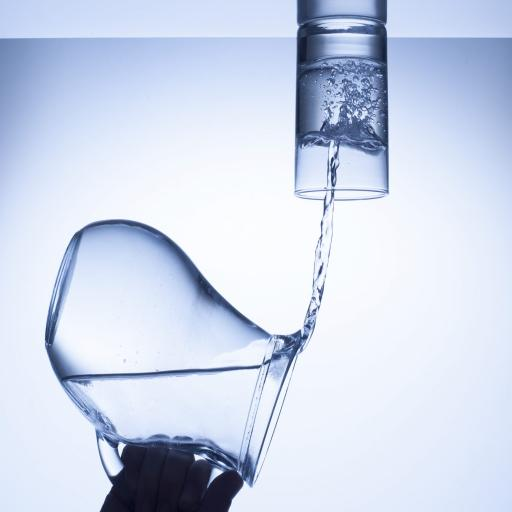cup: (295, 18, 388, 200)
